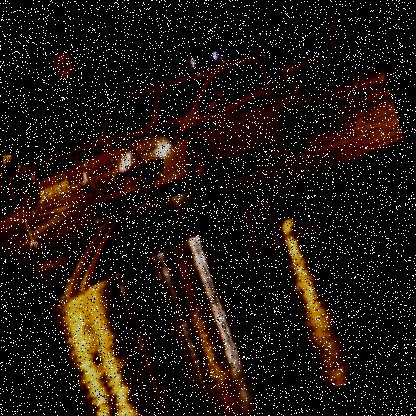Car: (58, 78, 198, 210), (315, 0, 383, 84), (0, 126, 43, 216)
